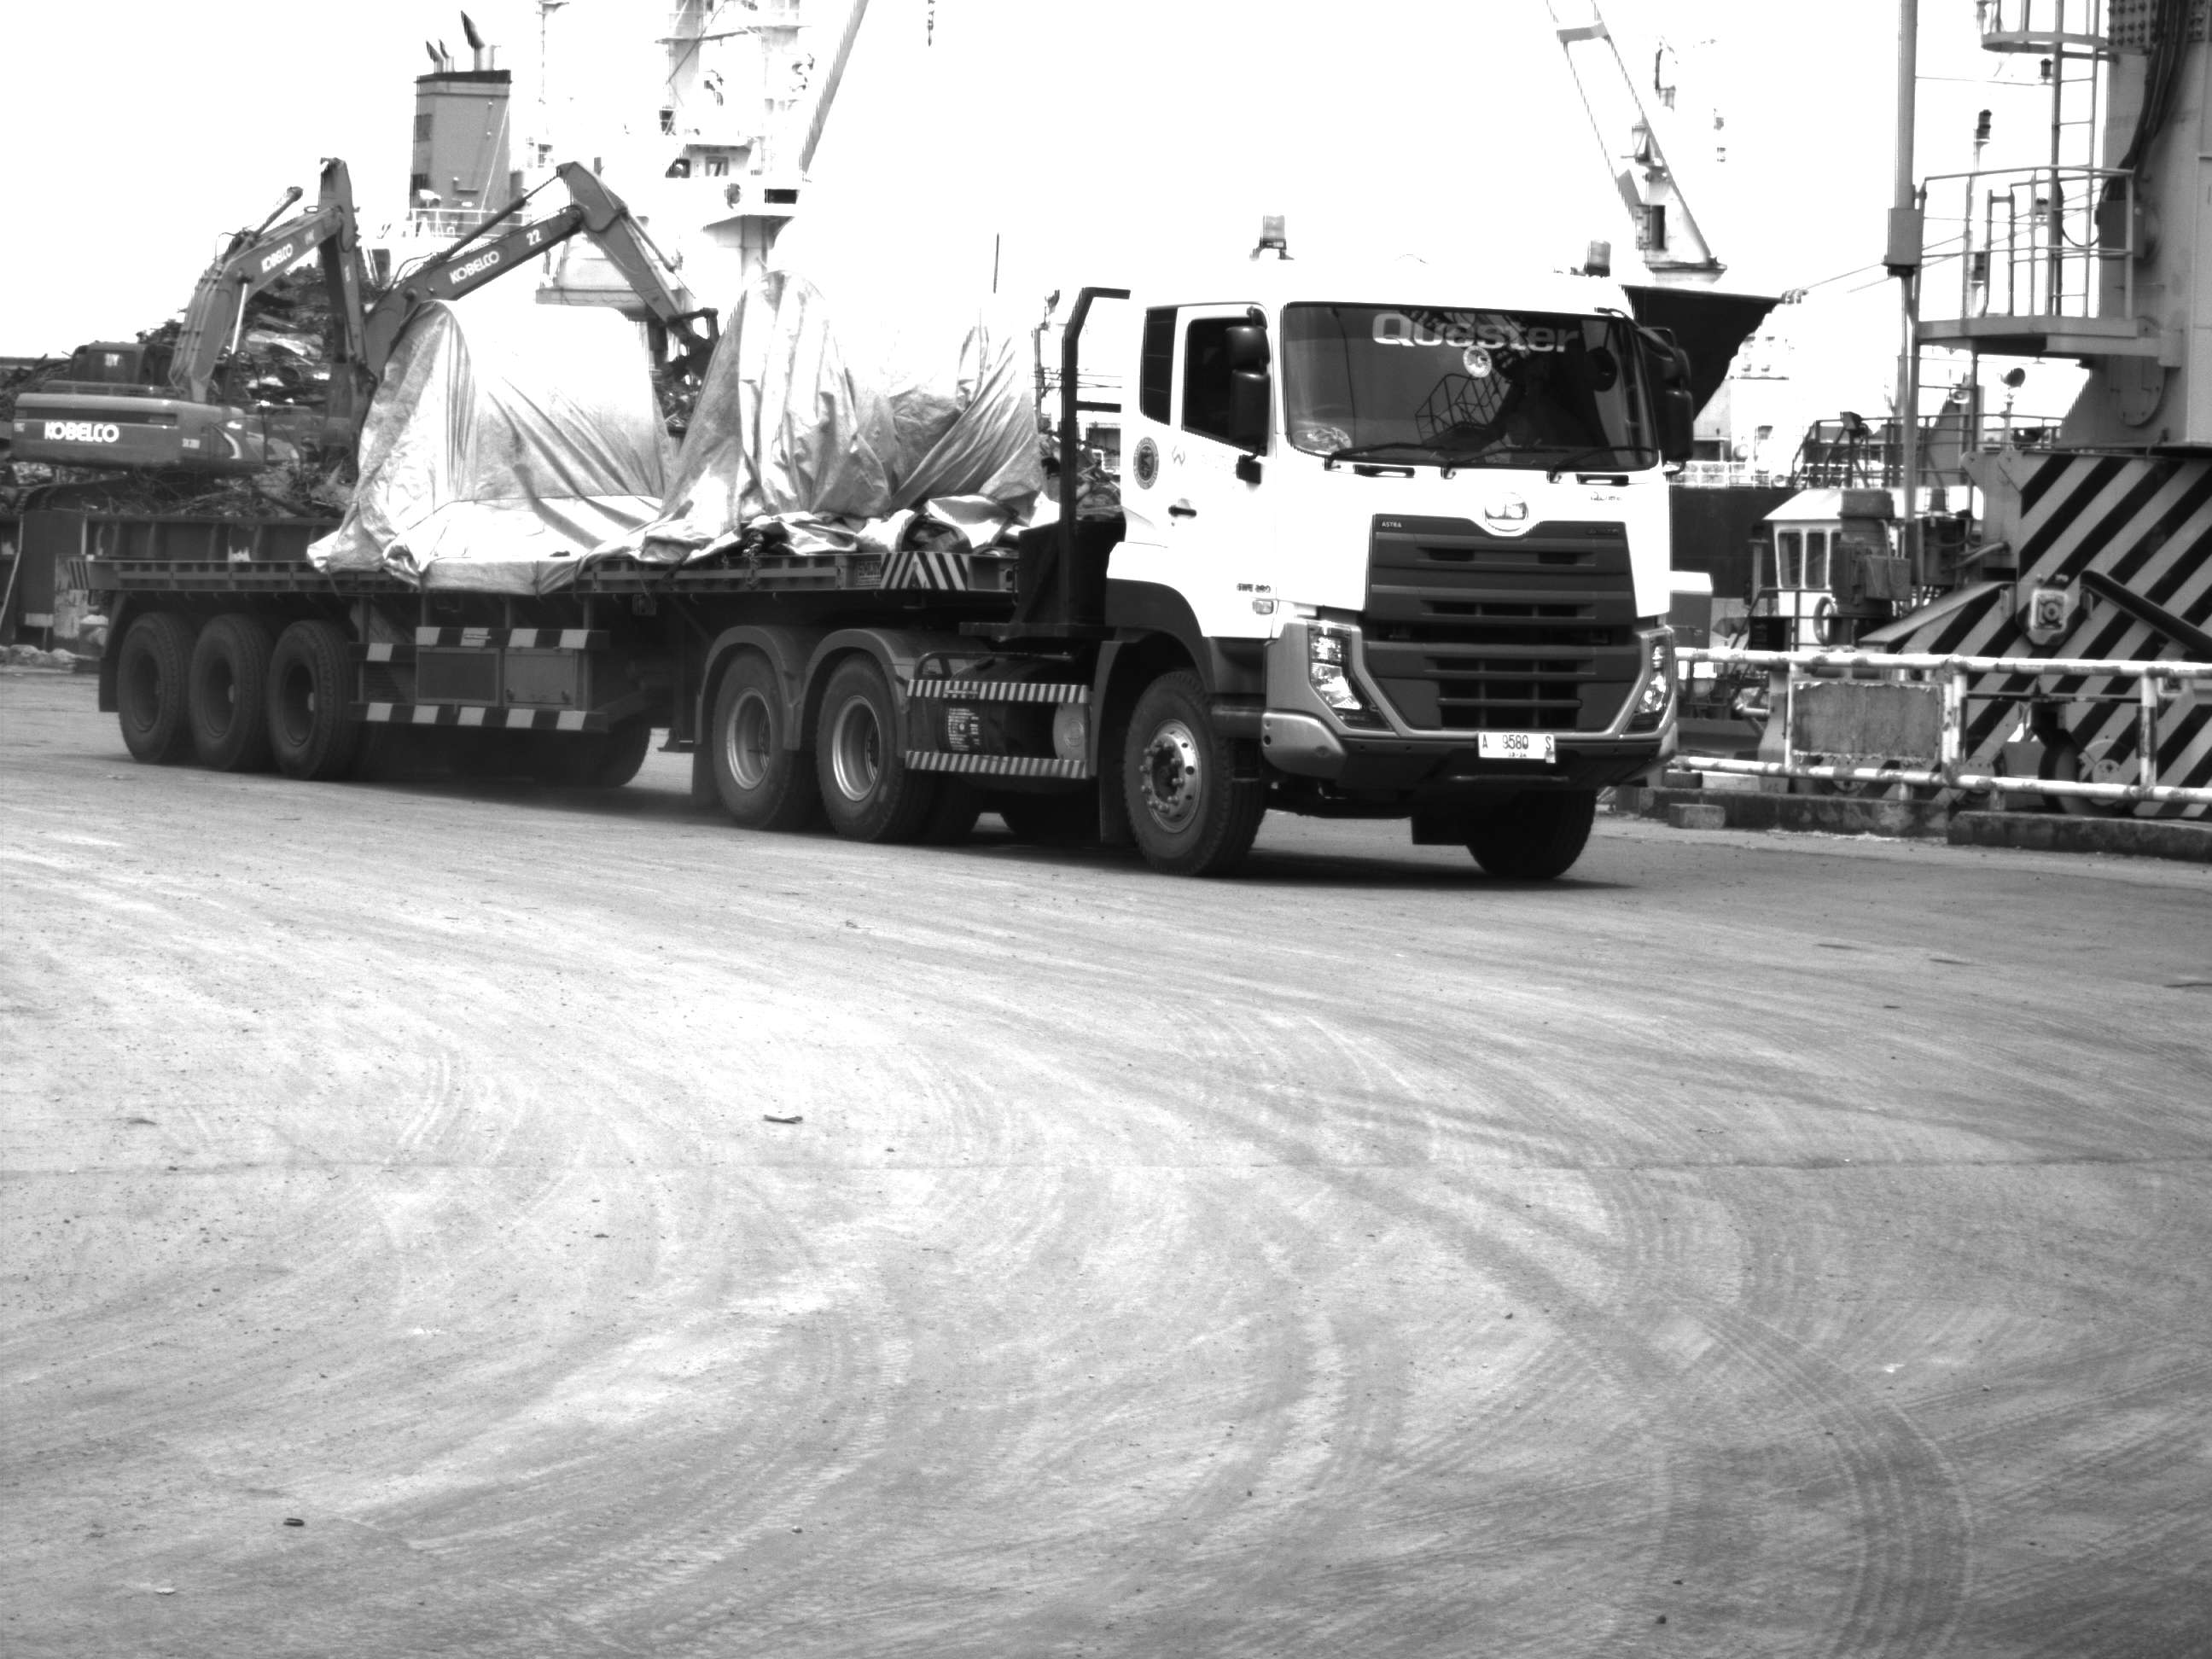day_truck_front: (1096, 286, 1702, 875)
plate: (1476, 725, 1557, 768)
